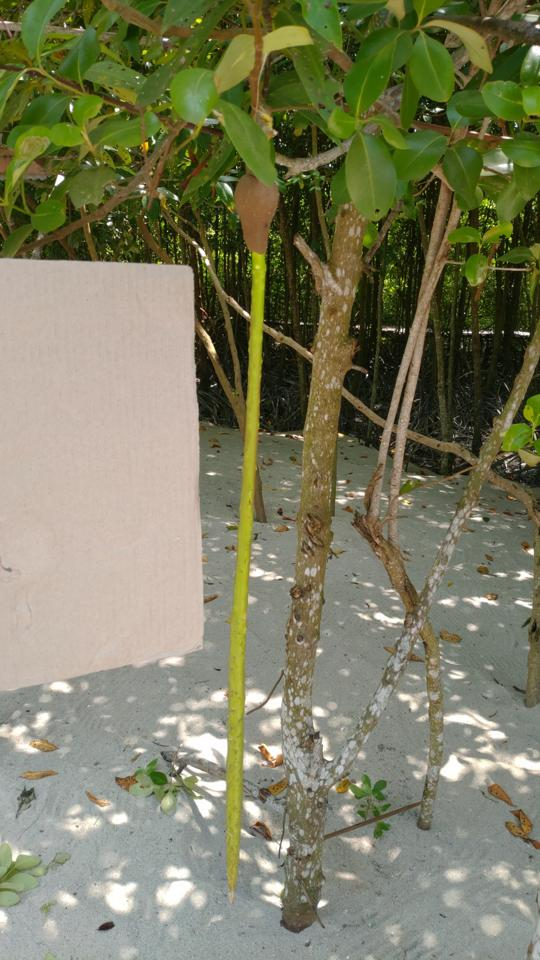mentah: (205, 153, 285, 906)
